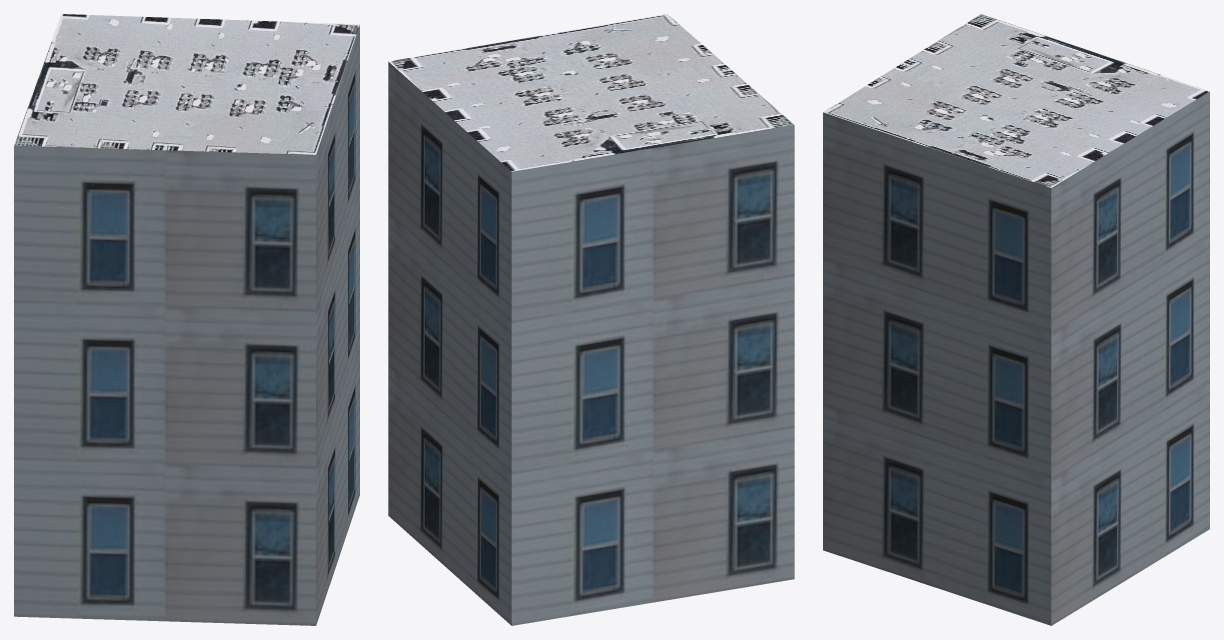
Rendered from ResTex__5005.fbx.
The picture shows the model from 3 angles, left to right: view 1: azimuth 30°, elevation 25°; view 2: azimuth 150°, elevation 25°; view 3: azimuth 270°, elevation 25°; orthographic projection. The views are drawn at different scales.
Visible parts, largest first — view 1: CityEngineMaterial_18_m, CityEngineMaterial_4_m; view 2: CityEngineMaterial_18_m, CityEngineMaterial_4_m; view 3: CityEngineMaterial_18_m, CityEngineMaterial_4_m.
Part boxes in pixels (x1=…): CityEngineMaterial_18_m: x1=14, y1=25, x2=359, y2=625; CityEngineMaterial_4_m: x1=14, y1=14, x2=359, y2=154; CityEngineMaterial_18_m: x1=388, y1=62, x2=794, y2=625; CityEngineMaterial_4_m: x1=388, y1=14, x2=793, y2=171; CityEngineMaterial_18_m: x1=823, y1=91, x2=1209, y2=625; CityEngineMaterial_4_m: x1=823, y1=14, x2=1209, y2=187.
Size of the model in its own units: 7.67 by 9 by 7.2.
2 materials, 2 textured.
